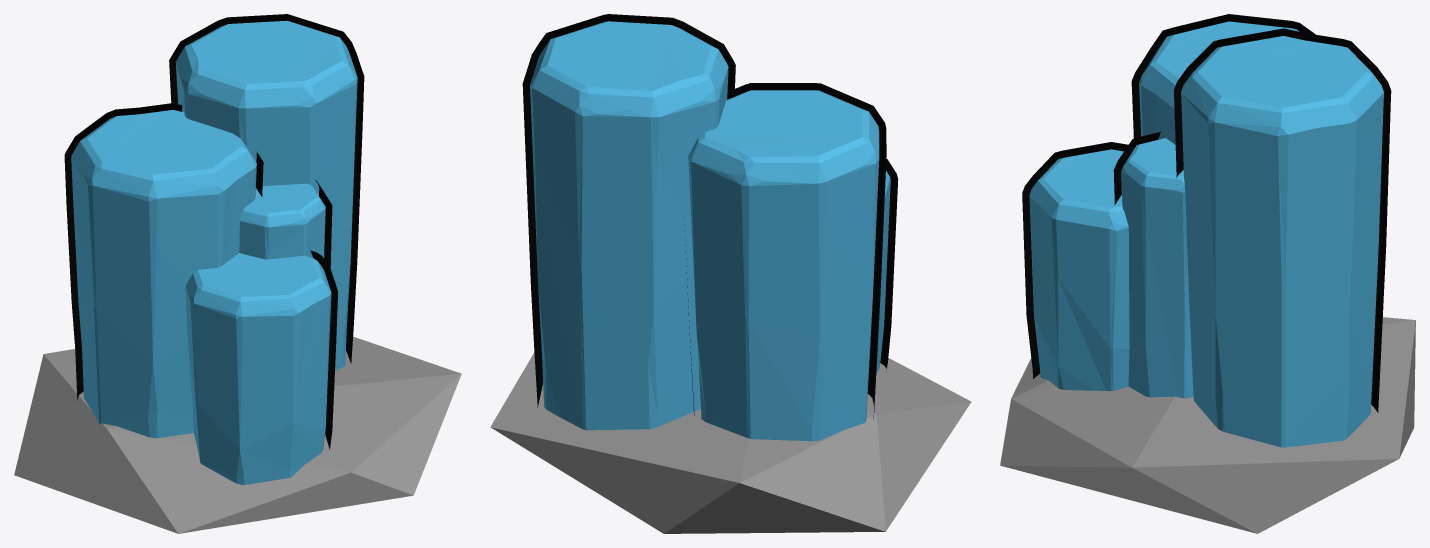
Rendered from Crystal4.glb.
3 renders of one model, left to right at view 1: azimuth 30°, elevation 25°; view 2: azimuth 150°, elevation 25°; view 3: azimuth 270°, elevation 25°, orthographic. The views are drawn at different scales.
Visible parts, largest first — view 1: Circle.003, Icosphere.016, Circle.002; view 2: Circle.003, Icosphere.016, Circle.002; view 3: Circle.003, Icosphere.016, Circle.002.
Part boxes in pixels (left/top/right/bottom): Circle.003: left=71, top=20, right=357, bottom=485; Icosphere.016: left=14, top=336, right=461, bottom=533; Circle.002: left=64, top=14, right=364, bottom=449; Circle.003: left=530, top=21, right=890, bottom=441; Icosphere.016: left=490, top=353, right=971, bottom=533; Circle.002: left=522, top=14, right=898, bottom=418; Circle.003: left=1029, top=21, right=1383, bottom=447; Icosphere.016: left=1000, top=317, right=1415, bottom=533; Circle.002: left=1022, top=14, right=1391, bottom=412.
Bounding box in the file's own units: 0.1533 × 0.1502 × 0.1368.
